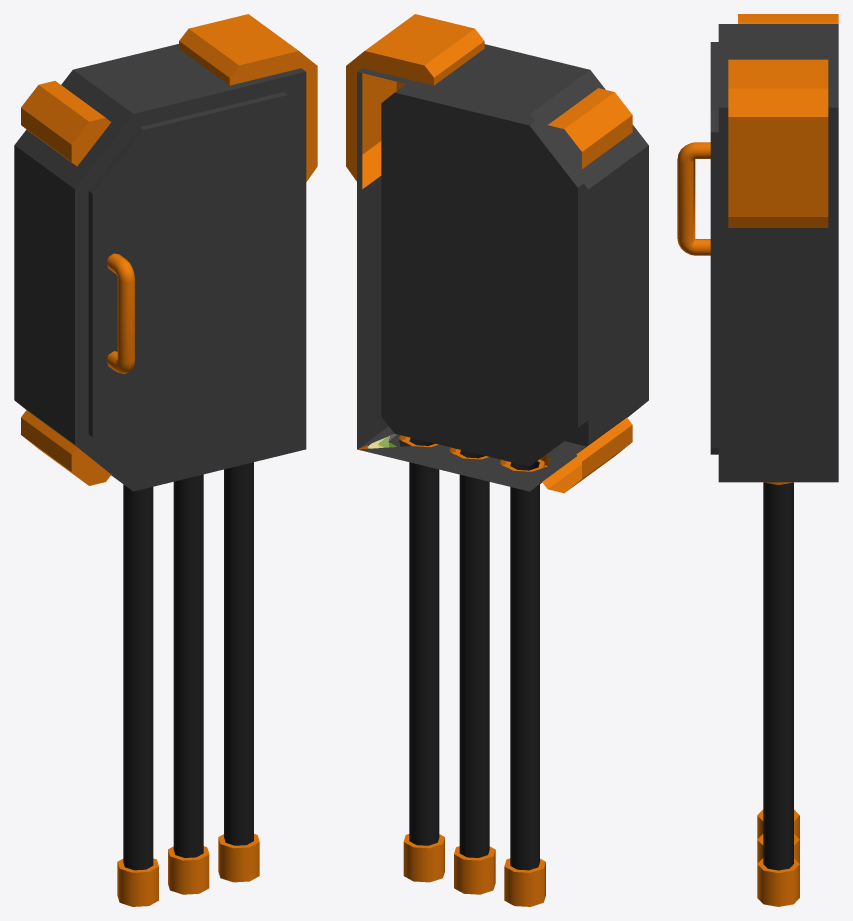
File: PowerBox.fbx
The picture shows the model from 3 angles, left to right: view 1: azimuth 30°, elevation 25°; view 2: azimuth 150°, elevation 25°; view 3: azimuth 270°, elevation 25°; orthographic projection.
Visible parts, largest first — view 1: PowerboxMain, Door; view 2: PowerboxMain; view 3: PowerboxMain, Door.
Boxes of the visible parts, x1,y1,x2,y2 form: PowerboxMain: [14, 14, 317, 906]; Door: [88, 92, 301, 475]; PowerboxMain: [346, 14, 648, 906]; PowerboxMain: [718, 14, 838, 906]; Door: [677, 42, 718, 454].
Size of the model in its own units: 45.8 by 147 by 26.04.
